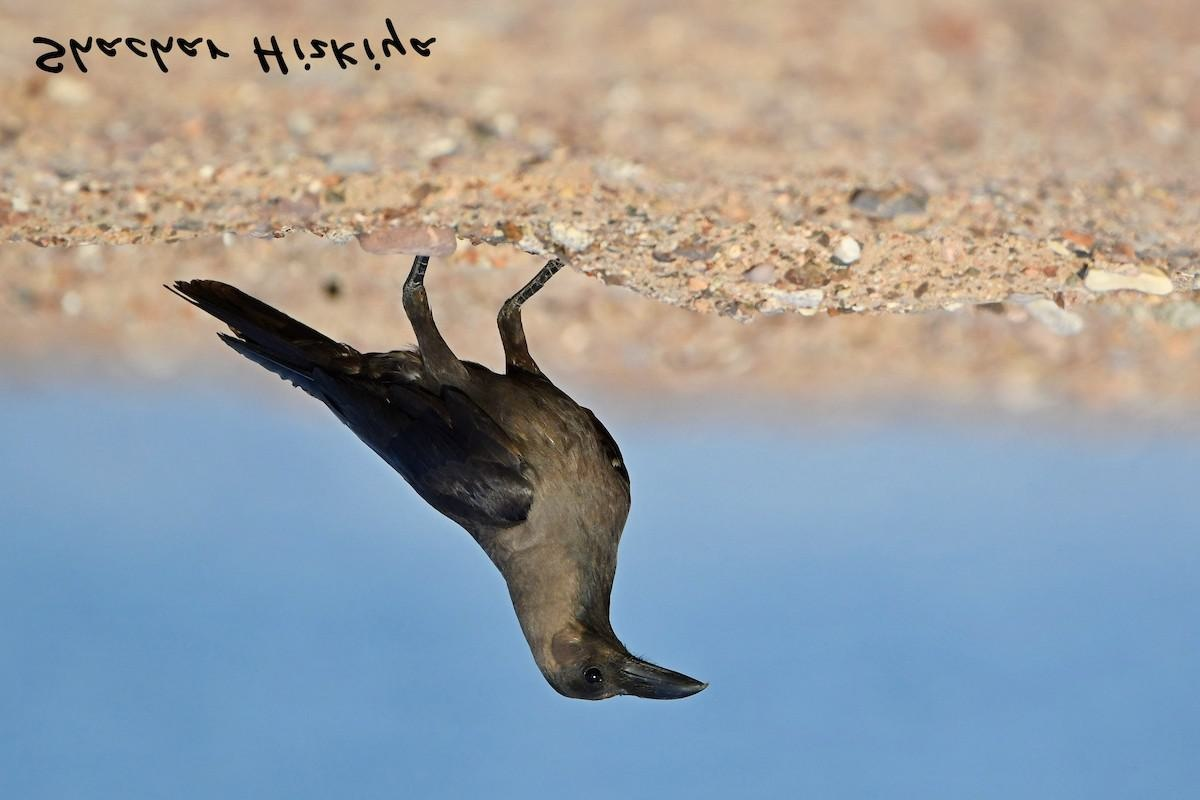crow: (125, 222, 718, 715)
